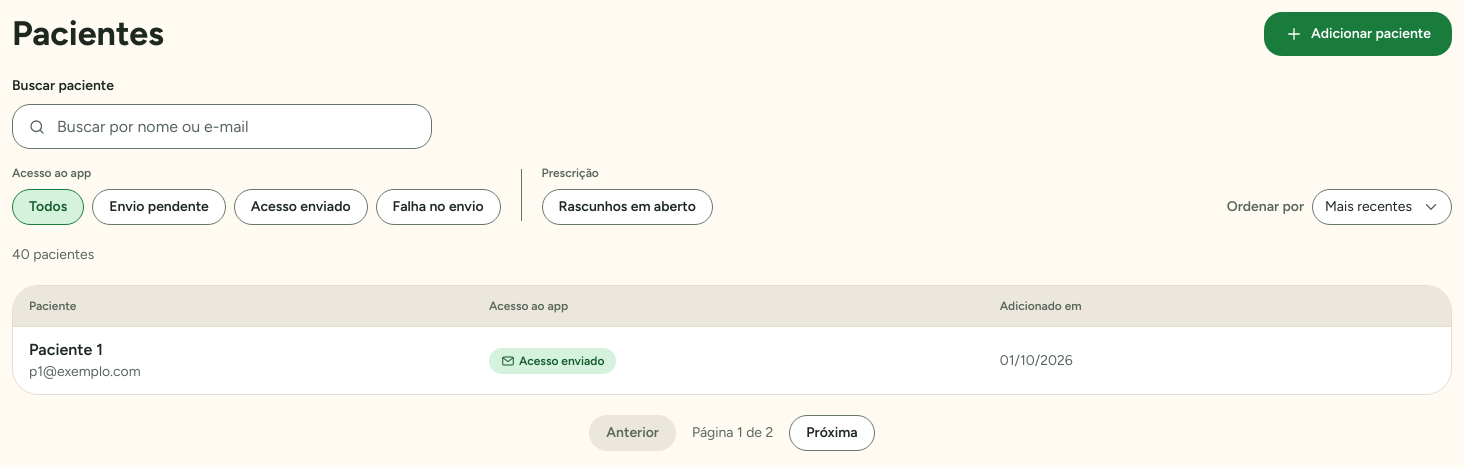
Test: Pacientes › pagina
Expected: the table is shown, [13,286,1451,394]
Expected: the button "Anterior" is disabled, [589,415,676,451]
Click the button "Próxima" at (832, 433), box [789,415,875,451]
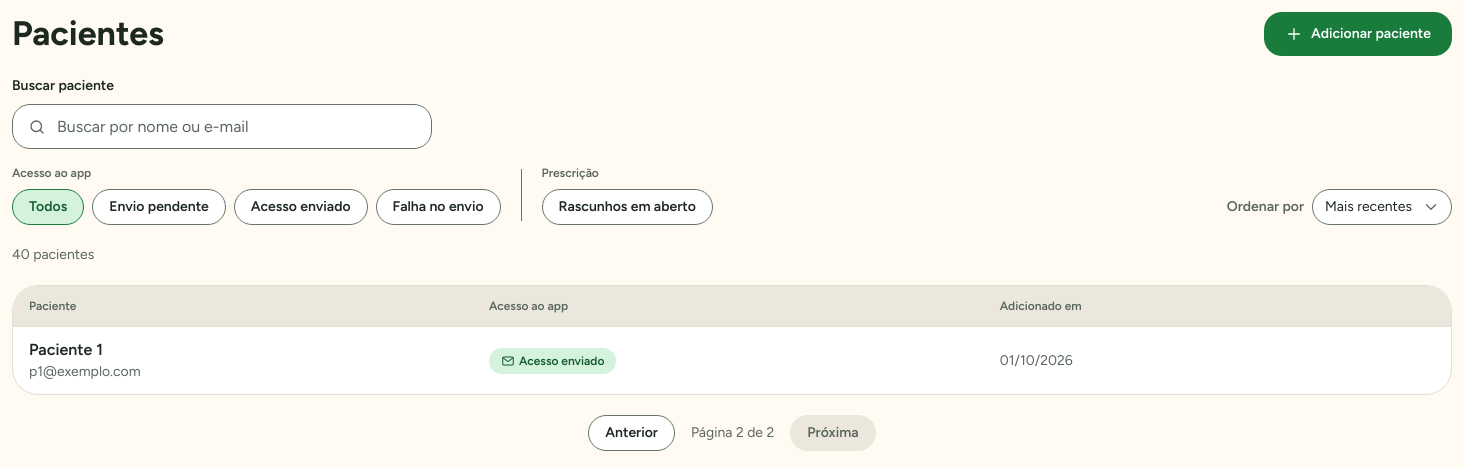
Expected: the text "Página 2 de 2" is shown, [691,423,774,443]
